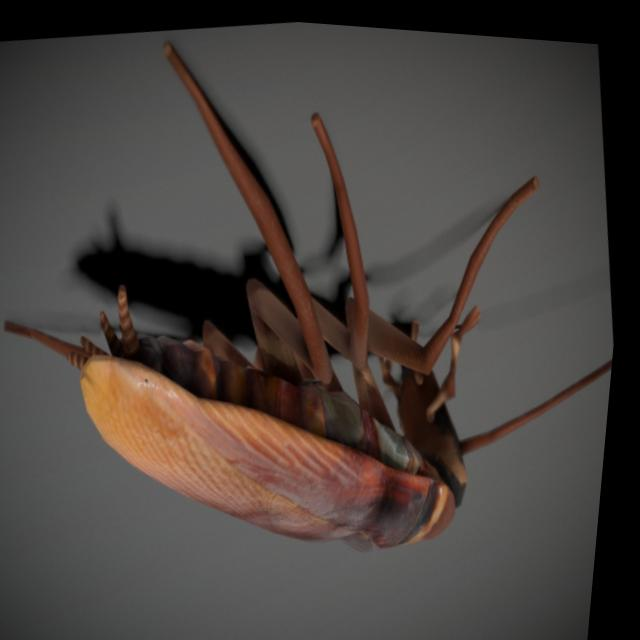Cockroach: (0, 0, 640, 637)
